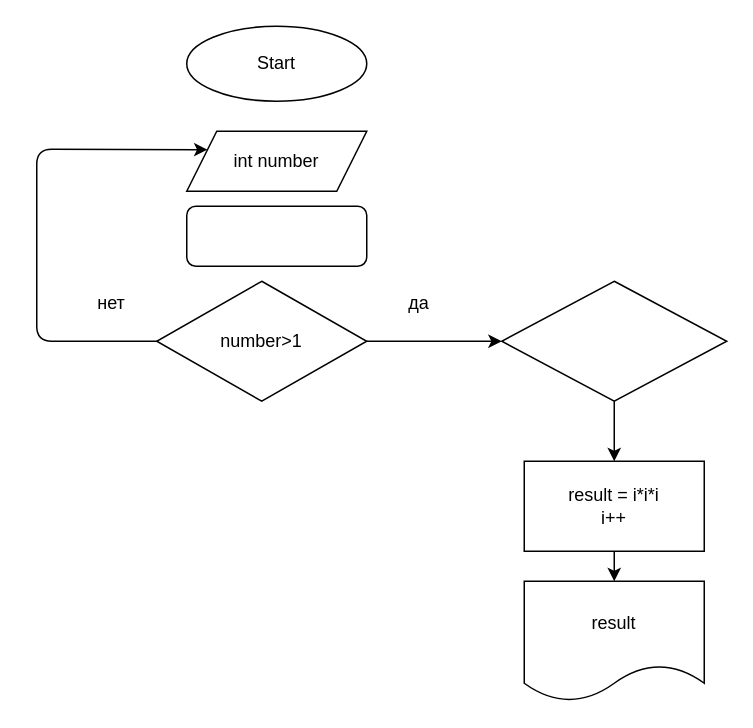
Image size: 753x728. Some labels were removed from this diagram. Here are the shapes that lost their labels. From the top down, the centre of each, then its label:
(276,235): i=0 result = 0
(613,340): i<= number
